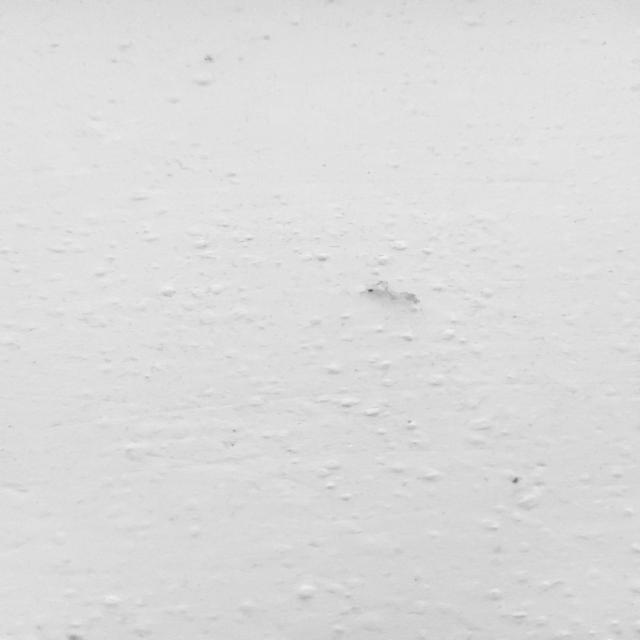rough and patchy surface: (12, 4, 630, 635)
